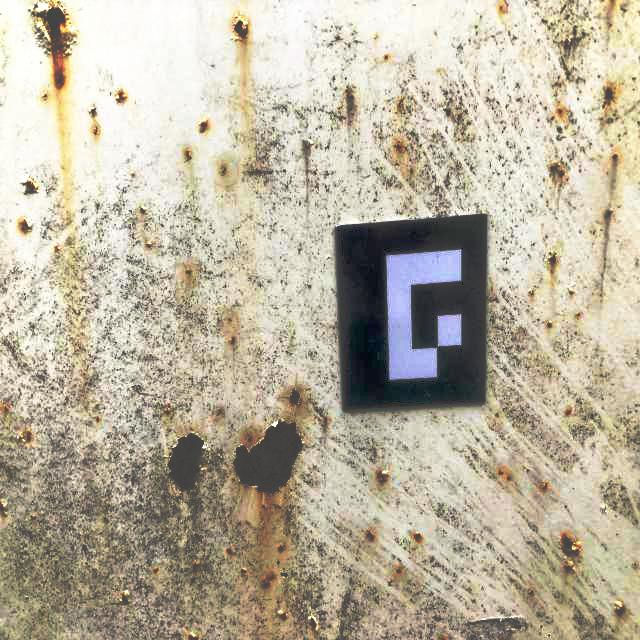Corrosion: (233, 419, 306, 494), (27, 0, 80, 59), (166, 431, 211, 493), (559, 534, 583, 573), (234, 14, 249, 41), (20, 175, 39, 195), (262, 573, 275, 590), (289, 390, 301, 407), (21, 217, 33, 233), (614, 600, 625, 617), (308, 615, 318, 633), (55, 71, 65, 88), (545, 251, 556, 266), (19, 430, 32, 442), (378, 470, 388, 483), (116, 90, 126, 103), (605, 88, 614, 101), (0, 500, 7, 516), (121, 590, 129, 604), (199, 119, 207, 132), (567, 283, 576, 294), (443, 106, 451, 118), (278, 610, 287, 620), (367, 530, 375, 541), (306, 139, 314, 149), (540, 481, 548, 491), (188, 633, 199, 640), (550, 162, 558, 171), (193, 560, 199, 571), (278, 543, 285, 552), (396, 143, 403, 152), (186, 149, 192, 159), (414, 533, 421, 541), (91, 107, 96, 117), (241, 568, 247, 576), (221, 166, 226, 175), (94, 126, 99, 135), (566, 407, 571, 416), (559, 169, 564, 178), (141, 206, 147, 213), (281, 572, 288, 578), (54, 244, 59, 252), (601, 506, 607, 512), (546, 321, 552, 327), (42, 93, 47, 100), (230, 336, 235, 343), (529, 289, 534, 296), (3, 403, 7, 411), (528, 590, 533, 596), (559, 108, 563, 115), (146, 242, 151, 247), (498, 470, 503, 475), (576, 312, 581, 317), (165, 408, 169, 414), (154, 567, 158, 573), (186, 270, 191, 274), (227, 549, 231, 554), (397, 568, 401, 573), (96, 416, 99, 422), (324, 417, 327, 423), (613, 154, 616, 159), (385, 56, 387, 60)
